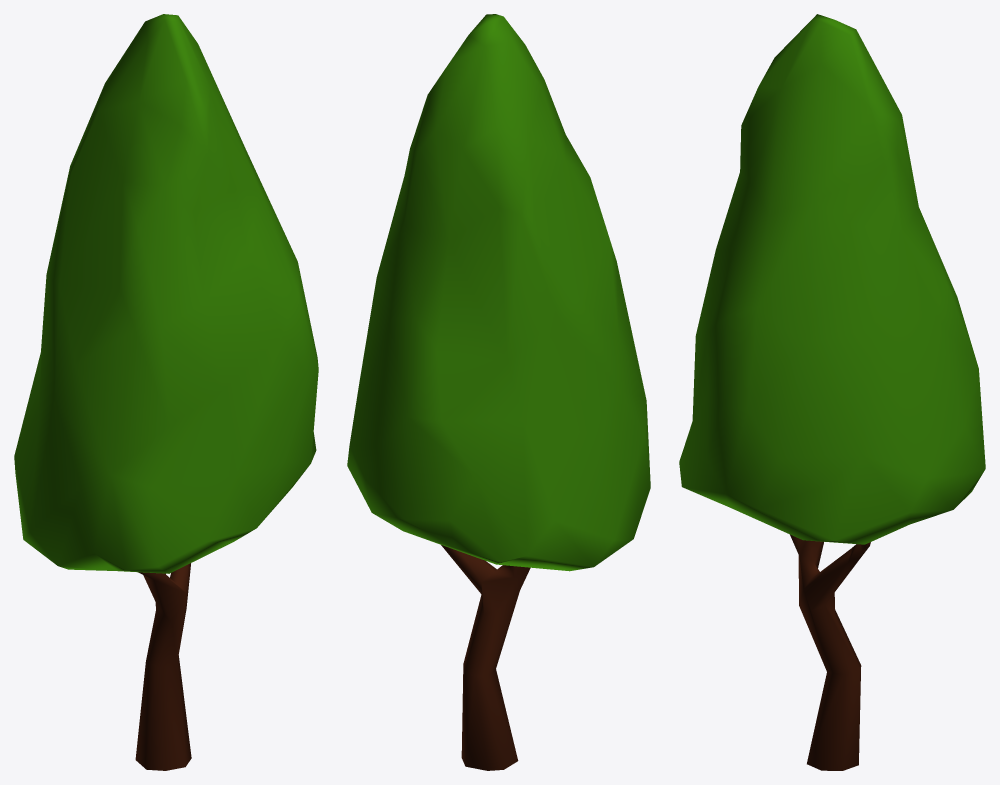
The model's file is lowpoly_tree_10.glb.
3 renders of one model, left to right at view 1: azimuth 30°, elevation 25°; view 2: azimuth 150°, elevation 25°; view 3: azimuth 270°, elevation 25°, orthographic.
Bounding box in the file's own units: 2.44 × 6.76 × 2.53.
